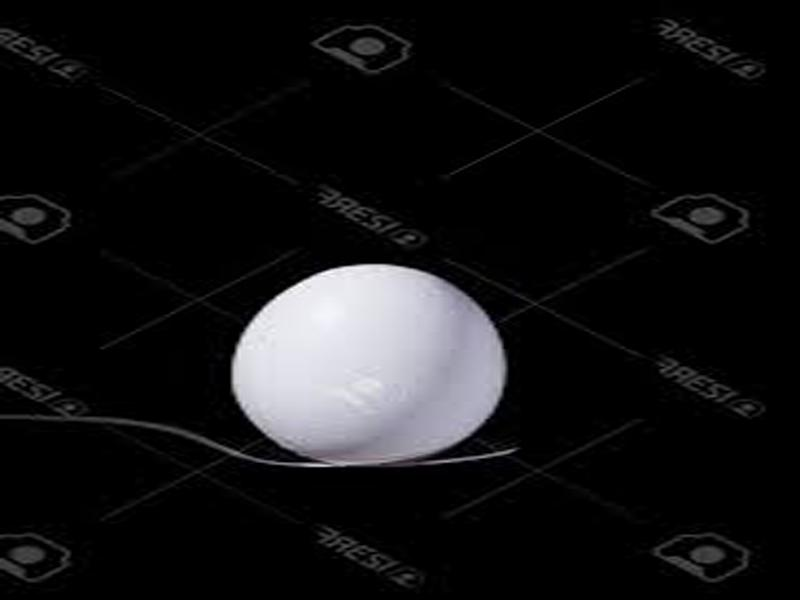Eggs: (231, 266, 506, 465)
